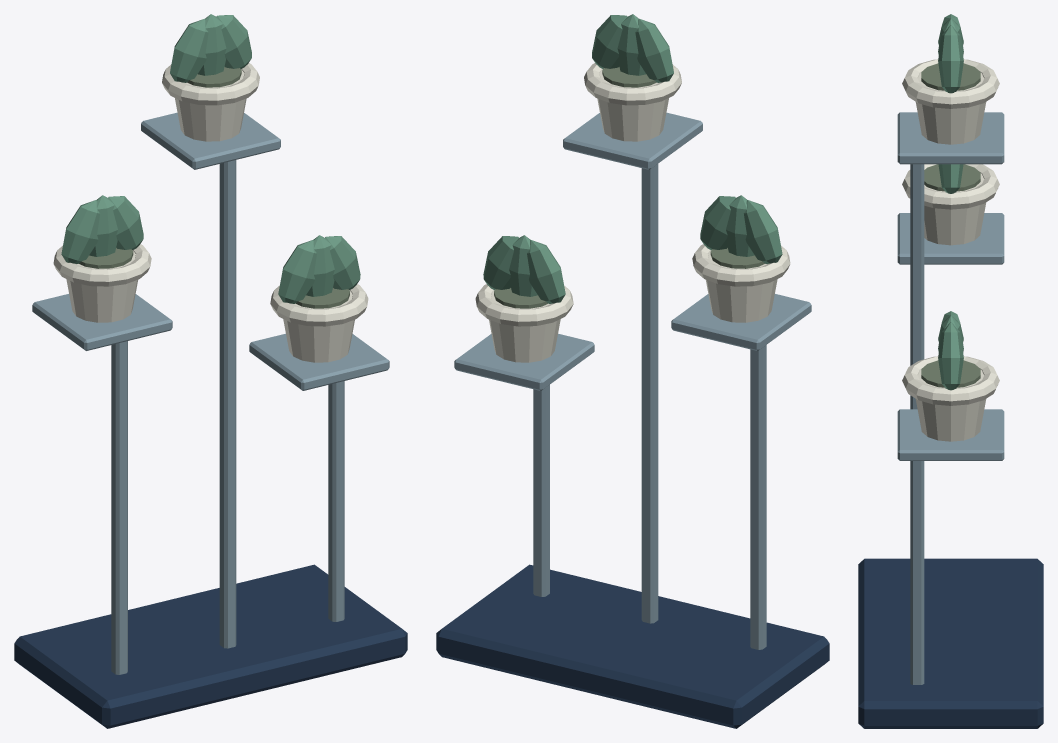
Rendered from tiered_plant_stand.glb.
3 renders of one model, left to right at view 1: azimuth 30°, elevation 25°; view 2: azimuth 150°, elevation 25°; view 3: azimuth 270°, elevation 25°, orthographic.
Visible parts, largest first — view 1: base, stand_post (×3), stand_leaf (×9), pot_platform (×3), small_pot_pot (×3), small_pot_lip (×3), small_pot_soil (×3); view 2: base, stand_post (×3), stand_leaf (×9), pot_platform (×3), small_pot_pot (×3), small_pot_lip (×3), small_pot_soil (×3); view 3: base, pot_platform (×3), small_pot_pot (×3), small_pot_lip (×3), stand_post (×2), stand_leaf (×3), small_pot_soil (×3).
Boxes of the visible parts, x1=… form: base: x1=14, y1=564, x2=407, y2=728; stand_post (×3): x1=111, y1=160, x2=344, y2=674; stand_leaf (×9): x1=61, y1=14, x2=360, y2=303; pot_platform (×3): x1=32, y1=112, x2=389, y2=390; small_pot_pot (×3): x1=66, y1=69, x2=354, y2=362; small_pot_lip (×3): x1=53, y1=63, x2=368, y2=326; small_pot_soil (×3): x1=79, y1=67, x2=349, y2=308; base: x1=436, y1=564, x2=829, y2=728; stand_post (×3): x1=533, y1=164, x2=766, y2=649; stand_leaf (×9): x1=483, y1=14, x2=782, y2=303; pot_platform (×3): x1=454, y1=112, x2=811, y2=390; small_pot_pot (×3): x1=489, y1=69, x2=777, y2=362; small_pot_lip (×3): x1=475, y1=63, x2=790, y2=326; small_pot_soil (×3): x1=494, y1=67, x2=764, y2=308; base: x1=858, y1=558, x2=1043, y2=728; pot_platform (×3): x1=897, y1=112, x2=1004, y2=460; small_pot_pot (×3): x1=915, y1=73, x2=986, y2=441; small_pot_lip (×3): x1=902, y1=59, x2=999, y2=405; stand_post (×2): x1=910, y1=164, x2=924, y2=684; stand_leaf (×3): x1=938, y1=25, x2=963, y2=390; small_pot_soil (×3): x1=921, y1=63, x2=980, y2=387.
Bounding box in the file's own units: 0.62 × 1.25 × 0.33.
